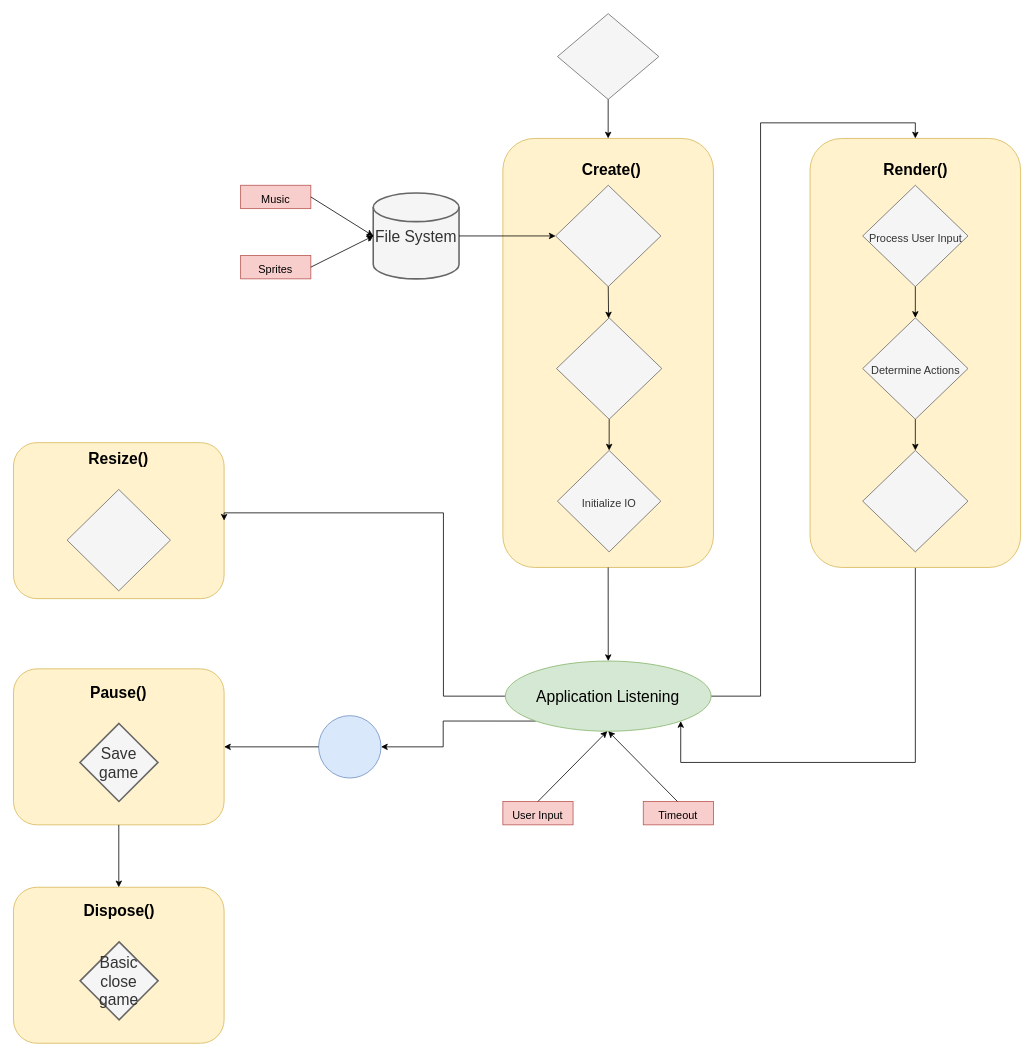
Image size: 1035x1057. Some labels were removed from this diagram. The box of each missing label's shape, as (x1, y1, x2, y2) in pixels:
Basic Resizing: (66, 489, 170, 591)
Close Signal: (318, 715, 381, 778)
Display Opening Credits: (556, 317, 662, 419)
Load initial assets: (555, 184, 661, 287)
New Application: (557, 13, 659, 99)
Output to screen: (862, 450, 968, 552)
